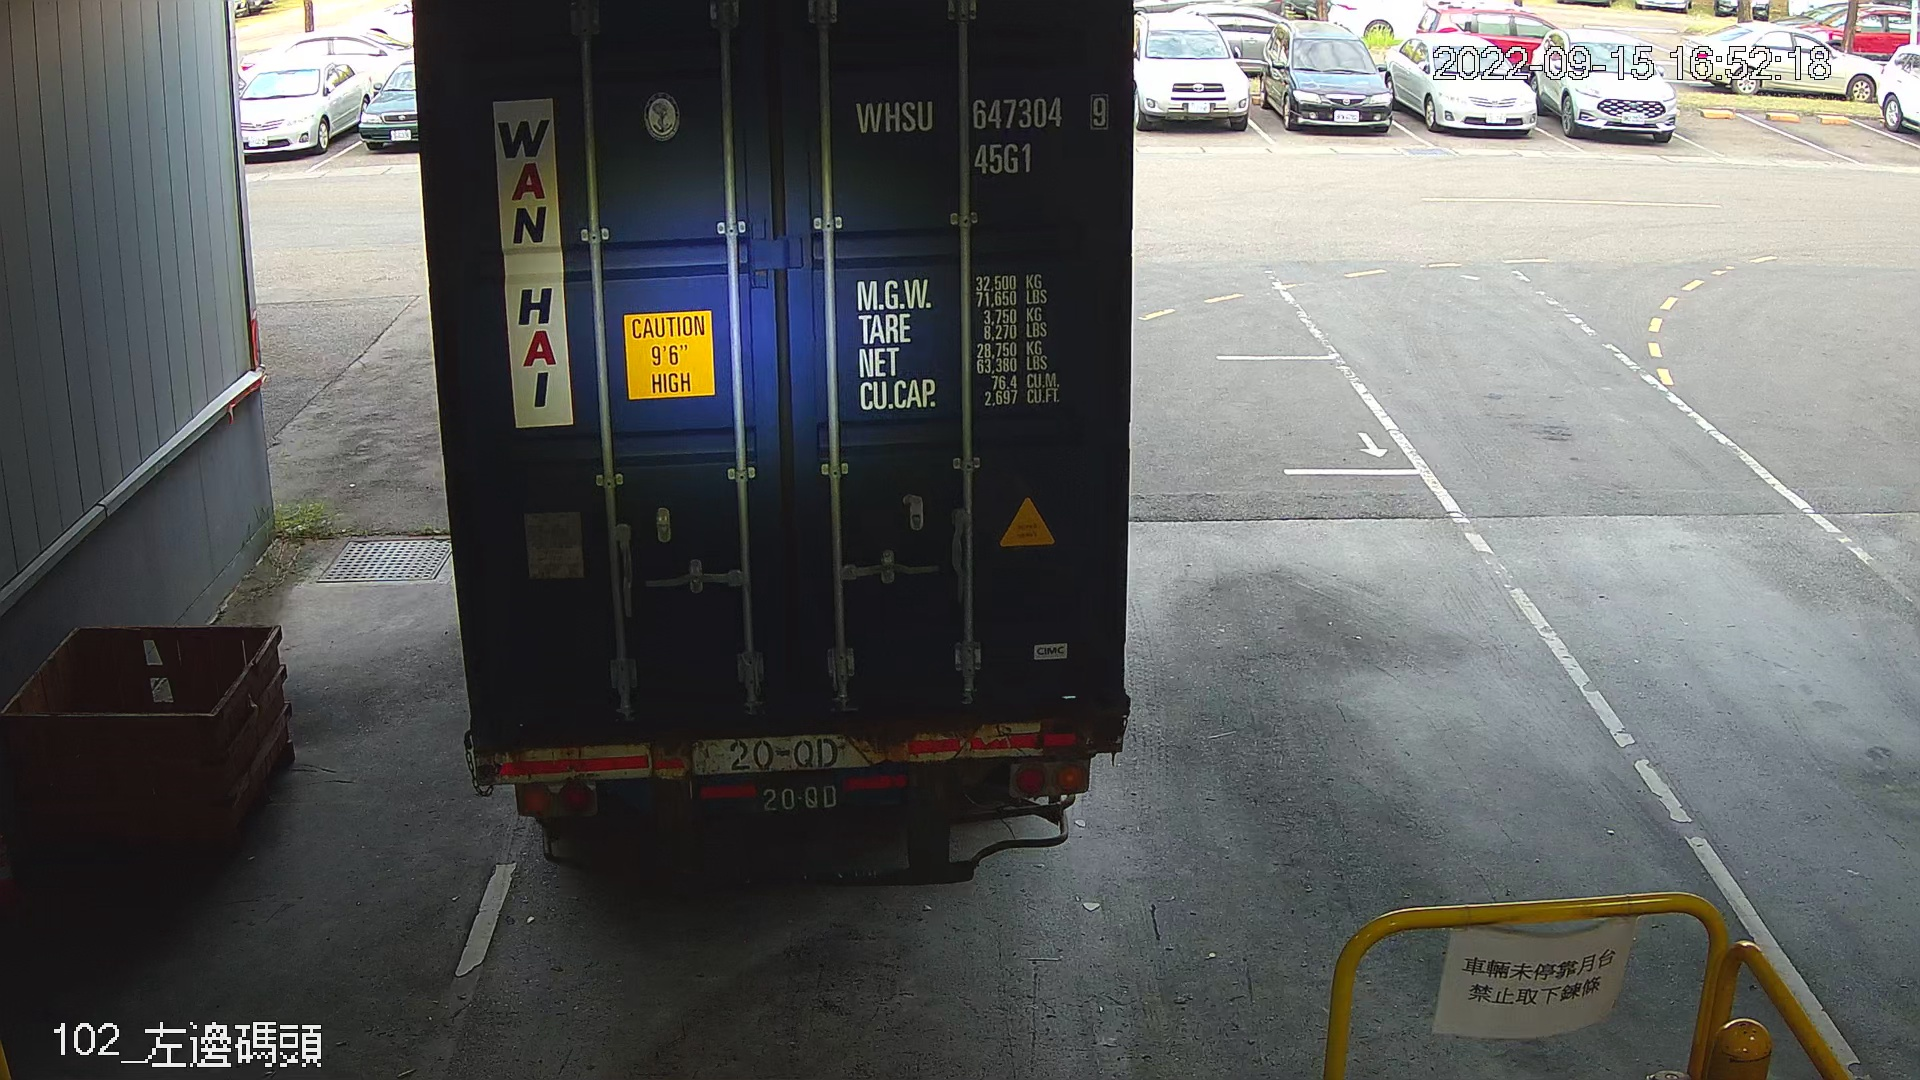container: (843, 84, 1120, 185)
